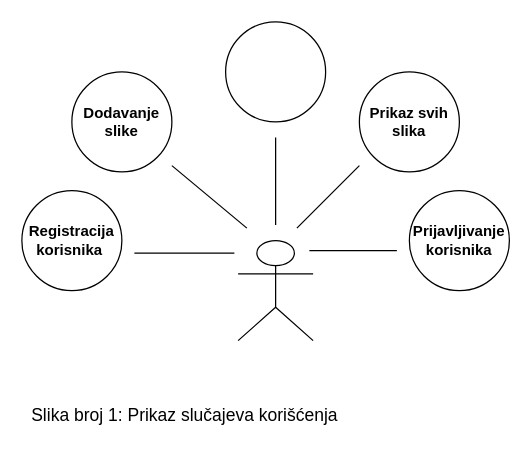
Image size: 531x450. Some labels were removed from this diagram. Each missing label, with the centre of its shape:
"Dodavanje komentara i lajka" belongs at point 275,71.
"Korisnik" belongs at point 275,290.
